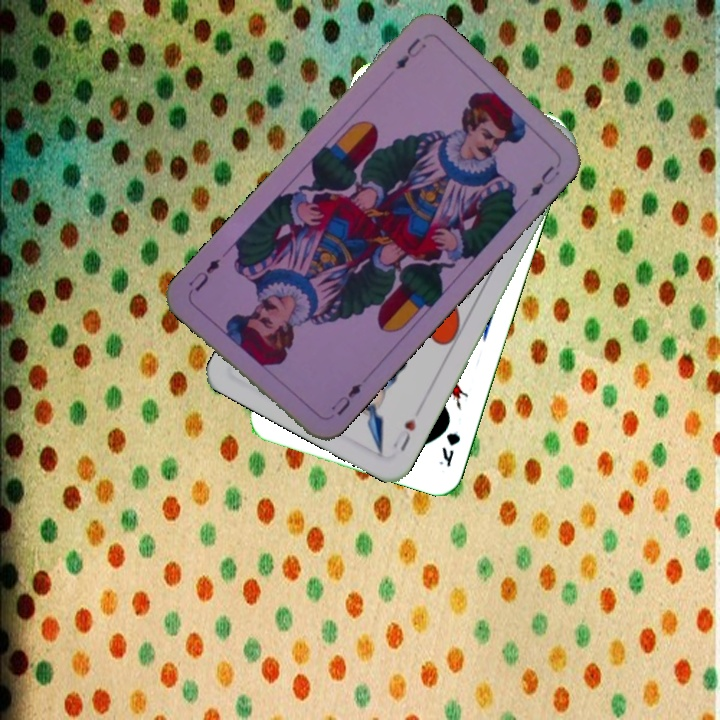EU: (326, 378, 365, 418), (391, 34, 430, 72)
GK: (435, 428, 463, 470)
HU: (388, 414, 419, 455)
